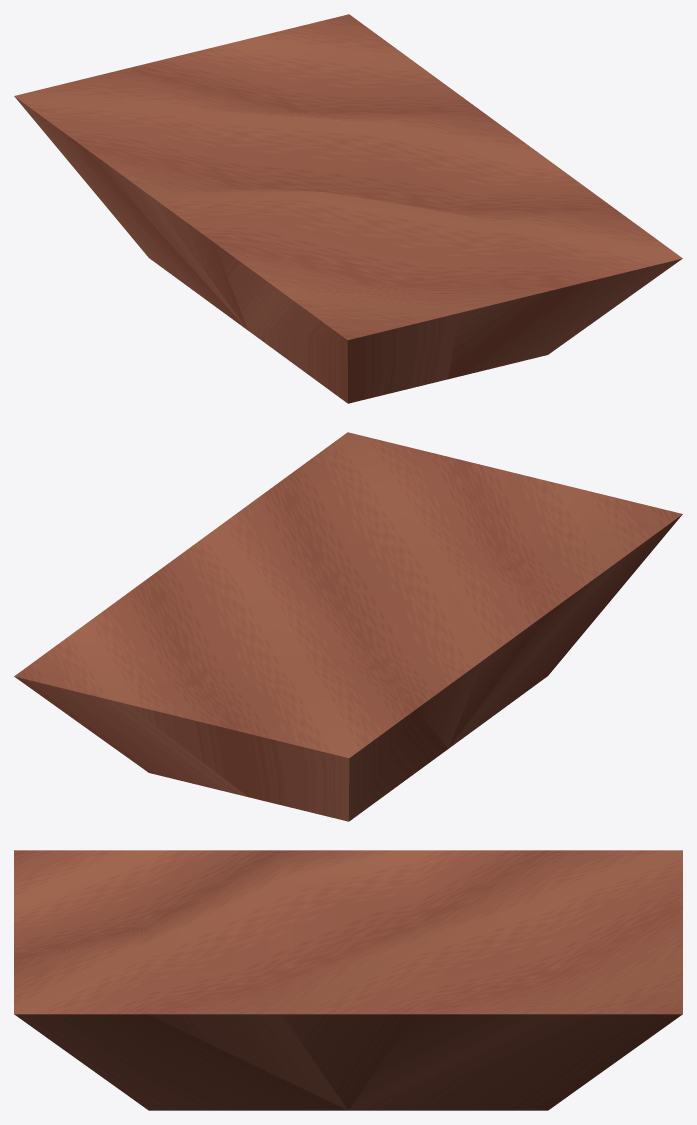
File: icecream_container_icecream_chocolate.gltf
The picture shows the model from 3 angles, top to bottom: view 1: azimuth 30°, elevation 25°; view 2: azimuth 150°, elevation 25°; view 3: azimuth 270°, elevation 25°; orthographic projection.
Parts seen in each view (by area): view 1: icecream_container_icecream_chocolate; view 2: icecream_container_icecream_chocolate; view 3: icecream_container_icecream_chocolate.
Part boxes in pixels (box(x1,y1,x2,y2)): icecream_container_icecream_chocolate: box(14, 14, 682, 403); icecream_container_icecream_chocolate: box(14, 432, 682, 821); icecream_container_icecream_chocolate: box(14, 850, 682, 1110).
Size of the model in its own units: 0.8144 by 0.3534 by 1.4.
1 material, 1 textured.
